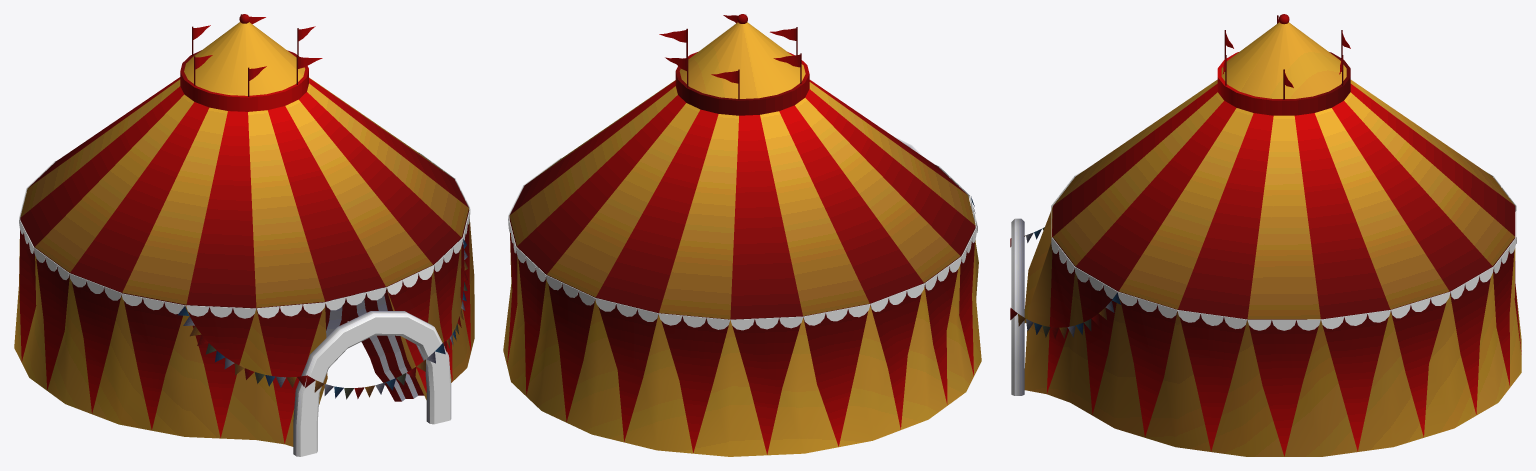
The model's file is SM_Circus_Tent (1).fbx.
3 views of the same model, side by side, from view 1: azimuth 30°, elevation 25°; view 2: azimuth 150°, elevation 25°; view 3: azimuth 270°, elevation 25° (orthographic). The views are drawn at different scales.
Parts seen in each view (by area): view 1: Circus_Tent_Export, Archway, Circus_Tent_Bits, L_Curtain, Tent_Flags, Flag_Poles, R_Curtain; view 2: Circus_Tent_Export, Circus_Tent_Bits, Flag_Poles; view 3: Circus_Tent_Export, Circus_Tent_Bits, Archway, Tent_Flags, Flag_Poles.
Boxes of the visible parts, x1,y1,x2,y2 form: Circus_Tent_Export: (14,22,474,446); Archway: (293,311,451,456); Circus_Tent_Bits: (19,151,470,318); L_Curtain: (348,287,423,401); Tent_Flags: (177,239,467,399); Flag_Poles: (192,14,322,96); R_Curtain: (325,295,350,337); Circus_Tent_Export: (503,22,981,456); Circus_Tent_Bits: (508,157,977,330); Flag_Poles: (659,15,801,99); Circus_Tent_Export: (1024,22,1521,456); Circus_Tent_Bits: (1051,168,1516,330); Archway: (1011,218,1024,395); Tent_Flags: (1010,227,1120,338); Flag_Poles: (1222,15,1350,99).
Size of the model in its own units: 1832 by 1457 by 1974.
